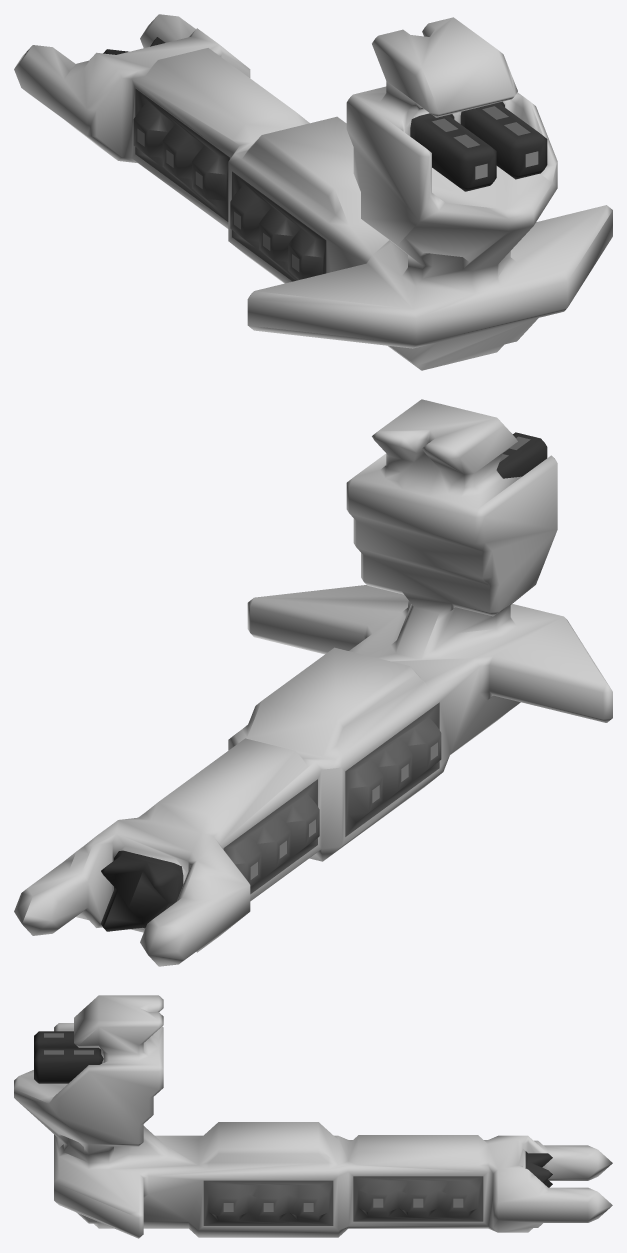
File: fulkreykk-2-karnas-class.obj
3 views of the same model, one above another, from view 1: azimuth 30°, elevation 25°; view 2: azimuth 150°, elevation 25°; view 3: azimuth 270°, elevation 25° (orthographic). The views are drawn at different scales.
Bounding box in the file's own units: 29 × 24 × 60.
1 material, 1 textured.
